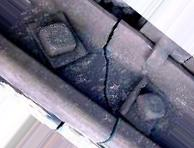tracks_fault: (96, 13, 133, 144)
